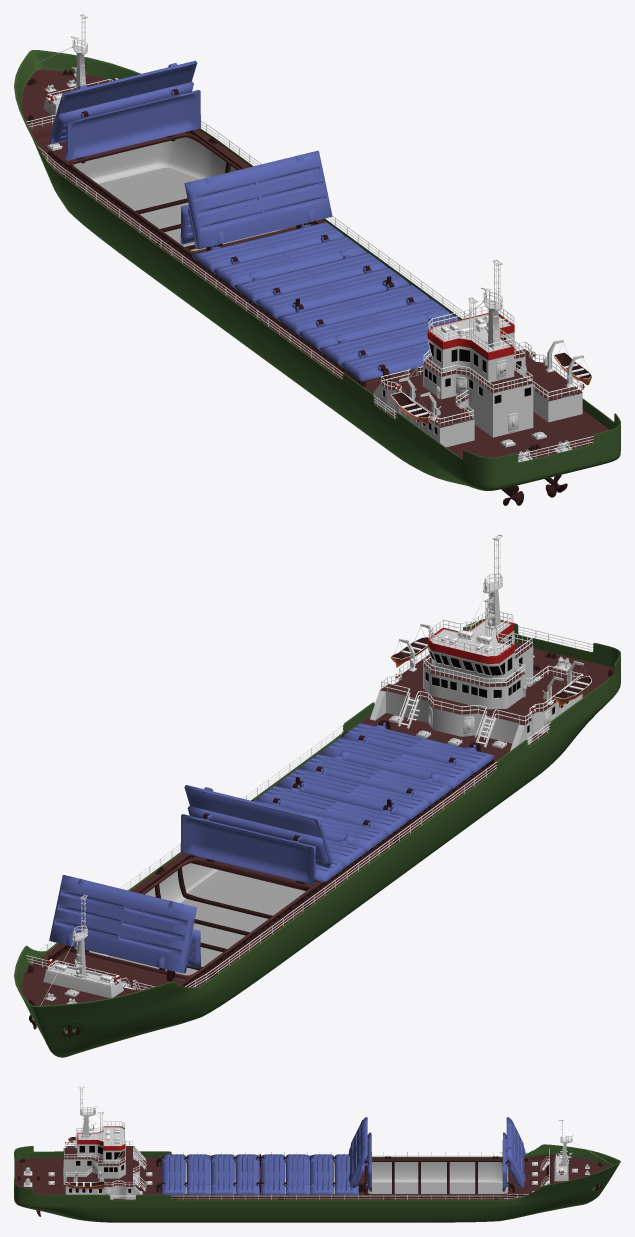
Rendered from Ship_01.FBX.
The picture shows the model from 3 angles, top to bottom: view 1: azimuth 30°, elevation 25°; view 2: azimuth 150°, elevation 25°; view 3: azimuth 270°, elevation 25°; orthographic projection. The views are drawn at different scales.
Visible parts, largest first — view 1: 12-04; view 2: 12-04; view 3: 12-04.
Part boxes in pixels (x1,y1,x2,y2): 12-04: (14,14,620,505); 12-04: (14,534,620,1057); 12-04: (14,1086,620,1222).
Bounding box in the file's own units: 14.07 × 15.99 × 71.83.
